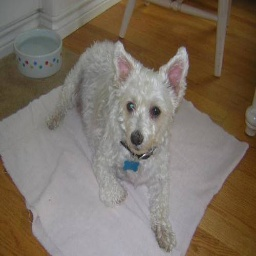dog: (48, 44, 210, 253)
